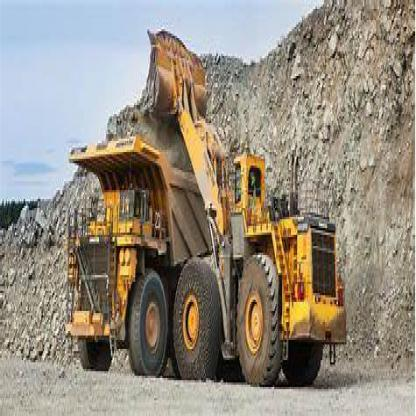bull_dozer/loader/grader: (139, 15, 353, 402)
dump_truck: (63, 118, 184, 374)
